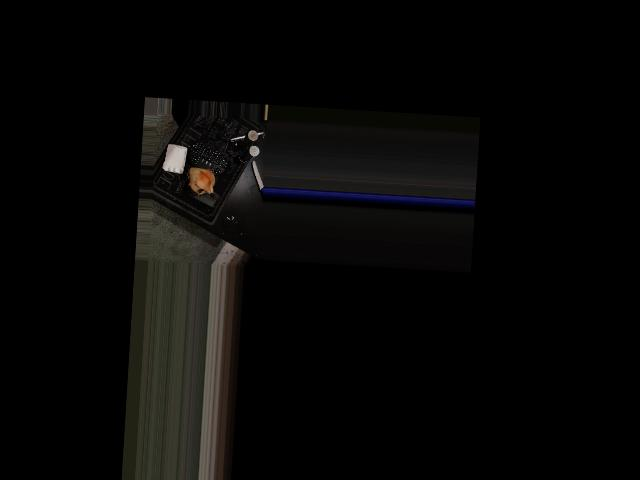onion: (185, 164, 217, 195)
